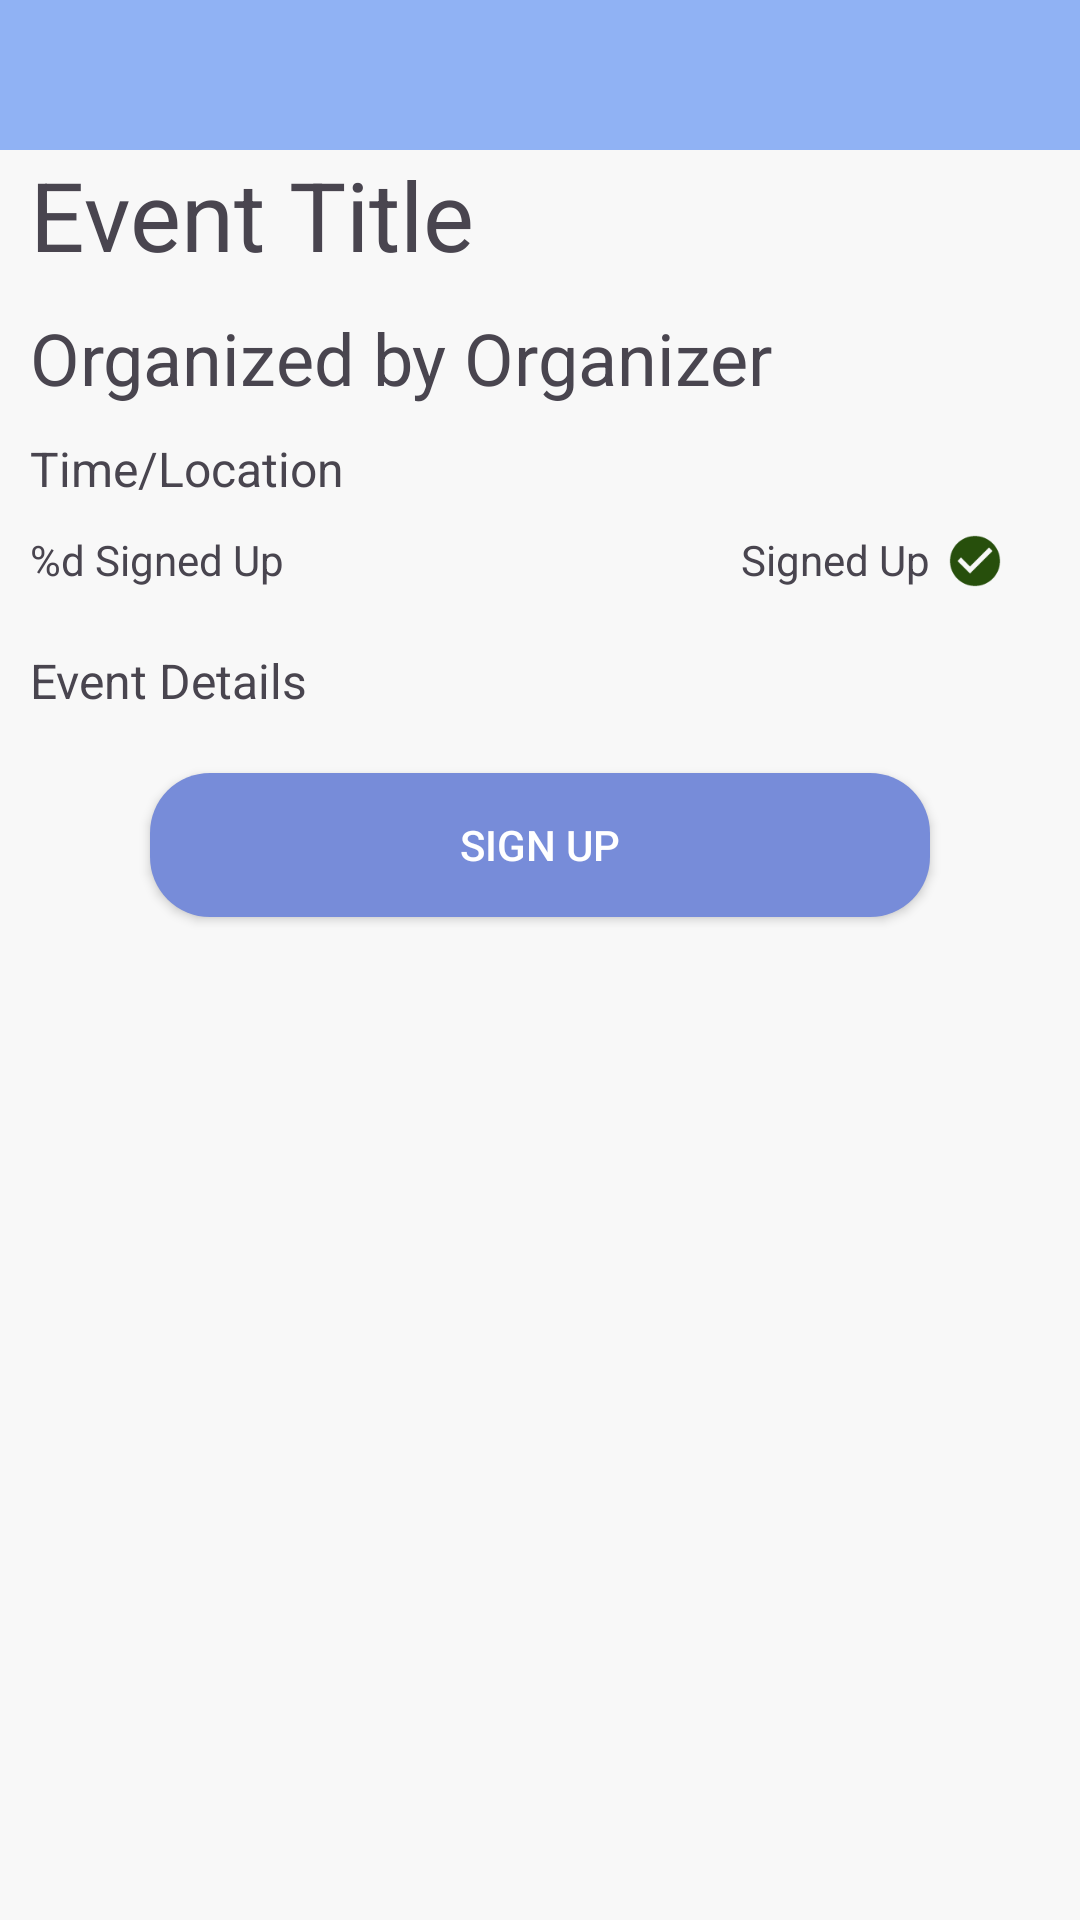

Icons on this 1080 x 1920 Android screen, each with its box as (x1=x1, y1=y1, x2=x2, y2=y2):
check circle: (x1=950, y1=536, x2=1000, y2=586)
